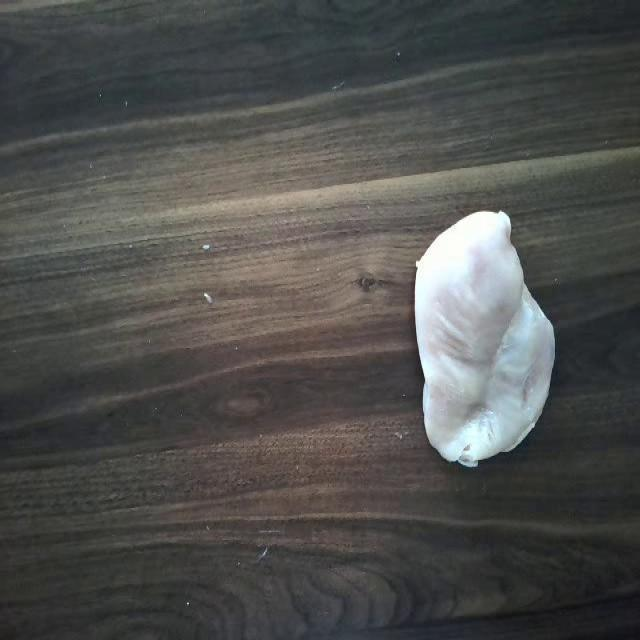breast: (399, 199, 564, 474)
